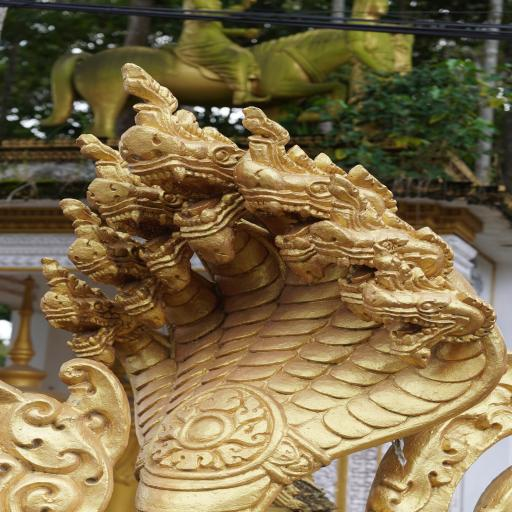ran: (0, 61, 512, 512)
than: (168, 0, 288, 108)
